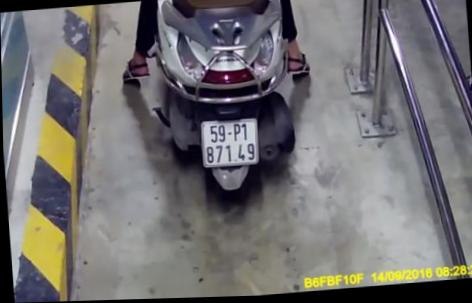LP: (197, 113, 260, 171)
